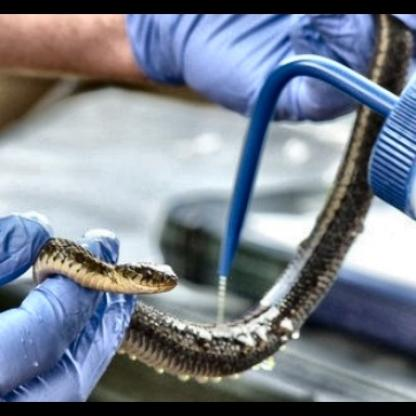Snake: (8, 235, 416, 386)
